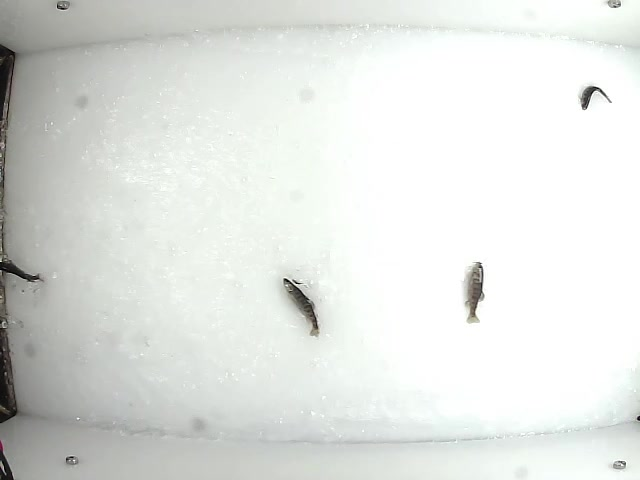fish: (278, 275, 321, 341), (461, 259, 486, 326), (576, 84, 612, 112)
